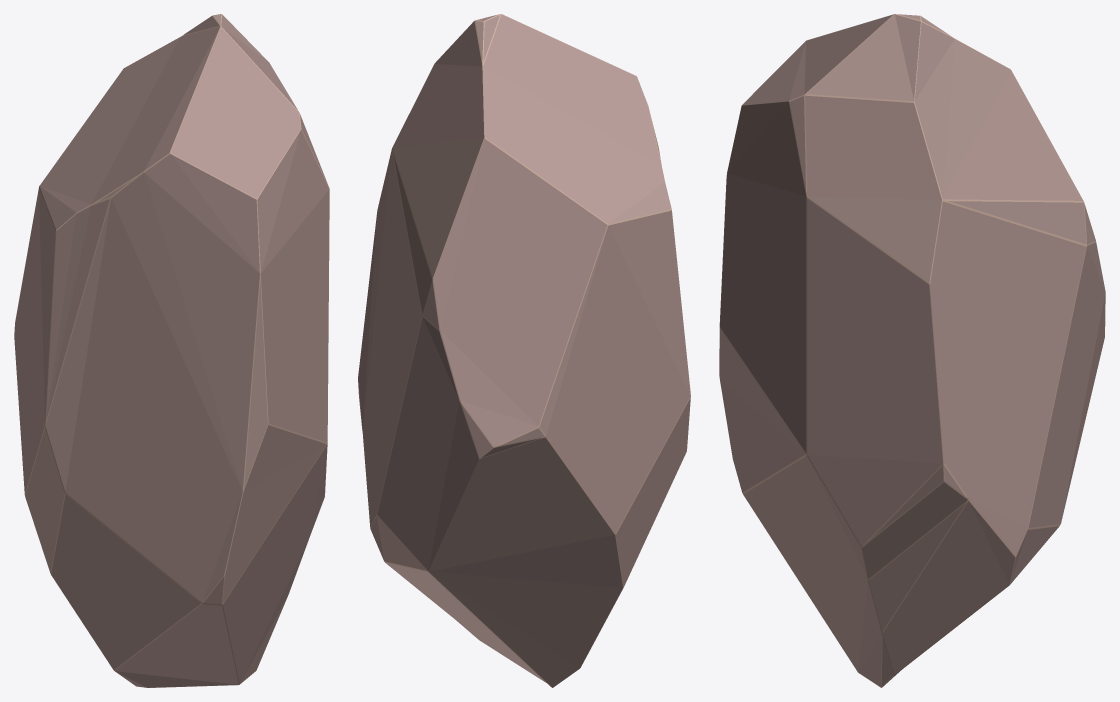
The model's file is rock-tall-1.glb.
3 renders of one model, left to right at view 1: azimuth 30°, elevation 25°; view 2: azimuth 150°, elevation 25°; view 3: azimuth 270°, elevation 25°, orthographic. The views are drawn at different scales.
Visible parts, largest first — view 1: rock-tall-1; view 2: rock-tall-1; view 3: rock-tall-1.
Boxes of the visible parts, left/top/right/bottom form: rock-tall-1: left=14, top=14, right=329, bottom=687; rock-tall-1: left=358, top=14, right=690, bottom=687; rock-tall-1: left=719, top=14, right=1105, bottom=687.
Size of the model in its own units: 0.9303 by 1.91 by 1.
